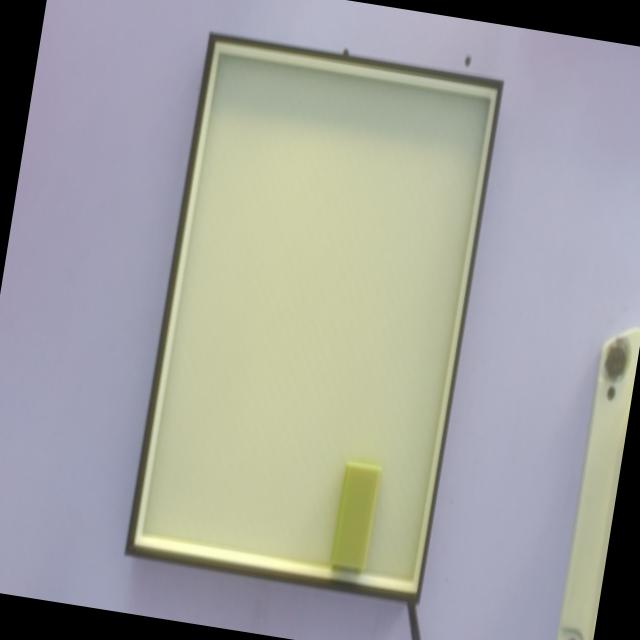bateria: (328, 462, 382, 577)
mesa: (127, 33, 504, 604)
